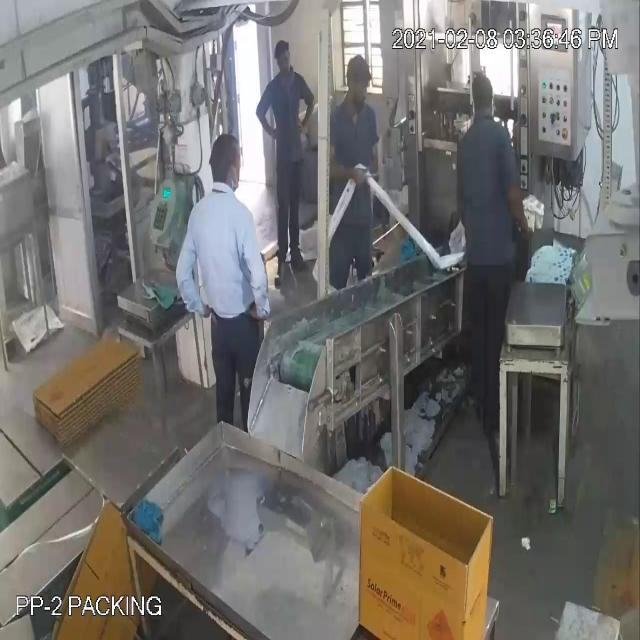No_Gloves: (22, 50, 344, 282)
